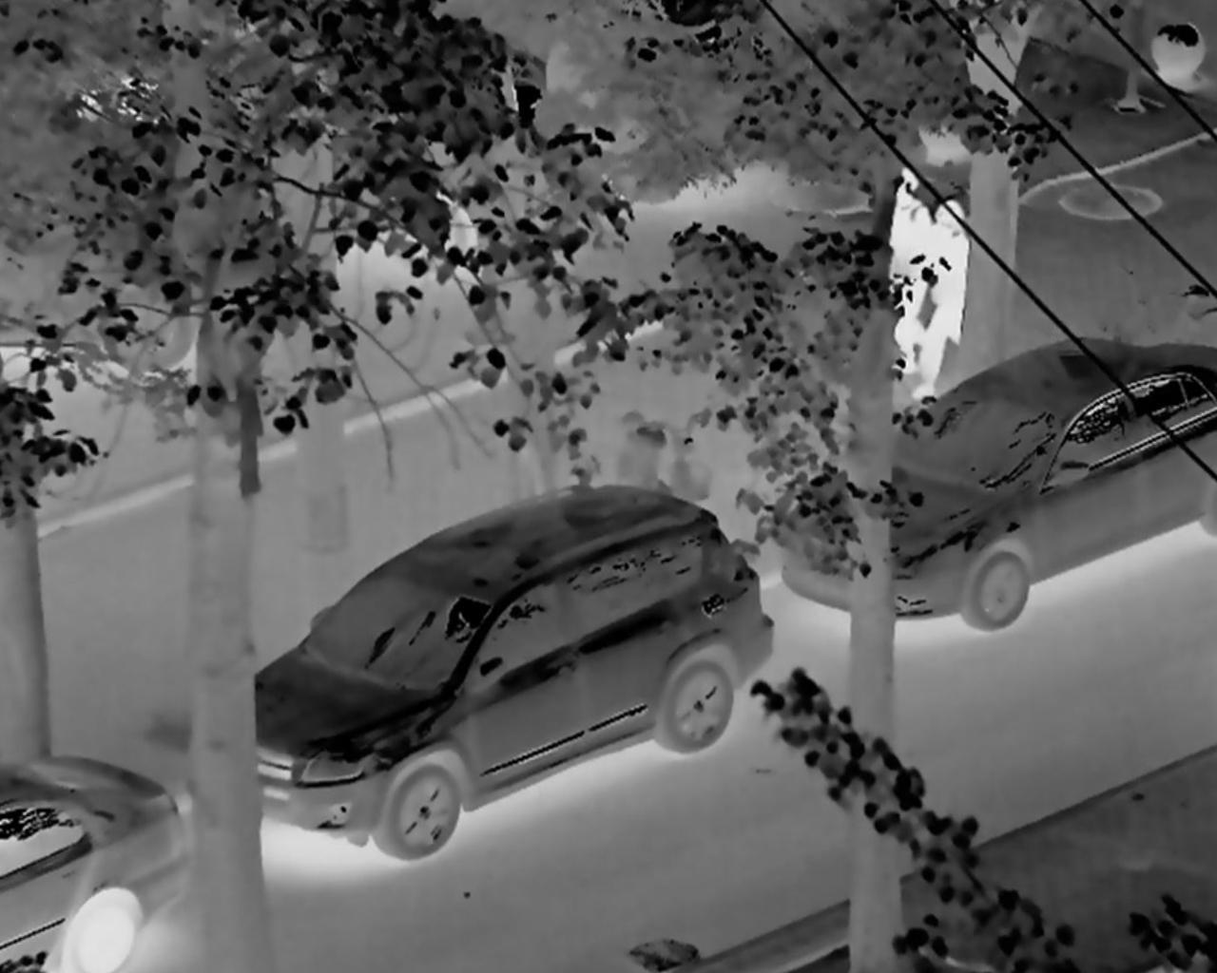person: (921, 182, 981, 432), (866, 161, 929, 391)
